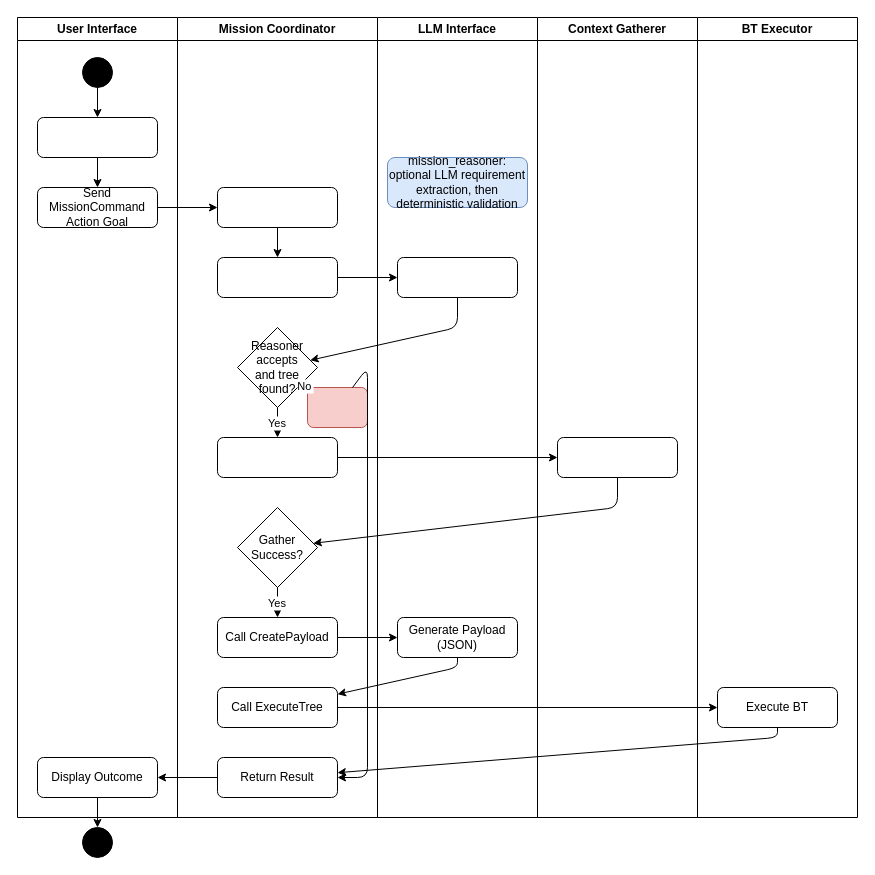
Some shapes in this 875 by 875 pixel diagram are drawn without their labels. Here are the shapes that lost their labels. From the top down, the centre of each, then its label:
At (97,137): "User Inputs Command".
At (277,207): "Receive Goal".
At (277,277): "Call ValidateMission then SelectBehaviorTree".
At (457,277): "Select Best Tree (LLM/Rules)".
At (337,407): "Report clarification, refusal, or failure".
At (277,457): "Call GatherContext".
At (617,457): "Collect Sensor Data".
